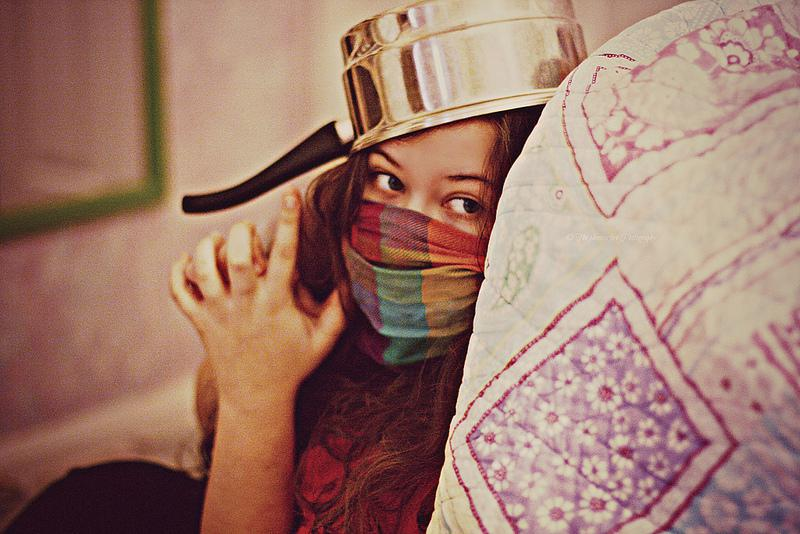OK: (345, 145, 520, 320)
